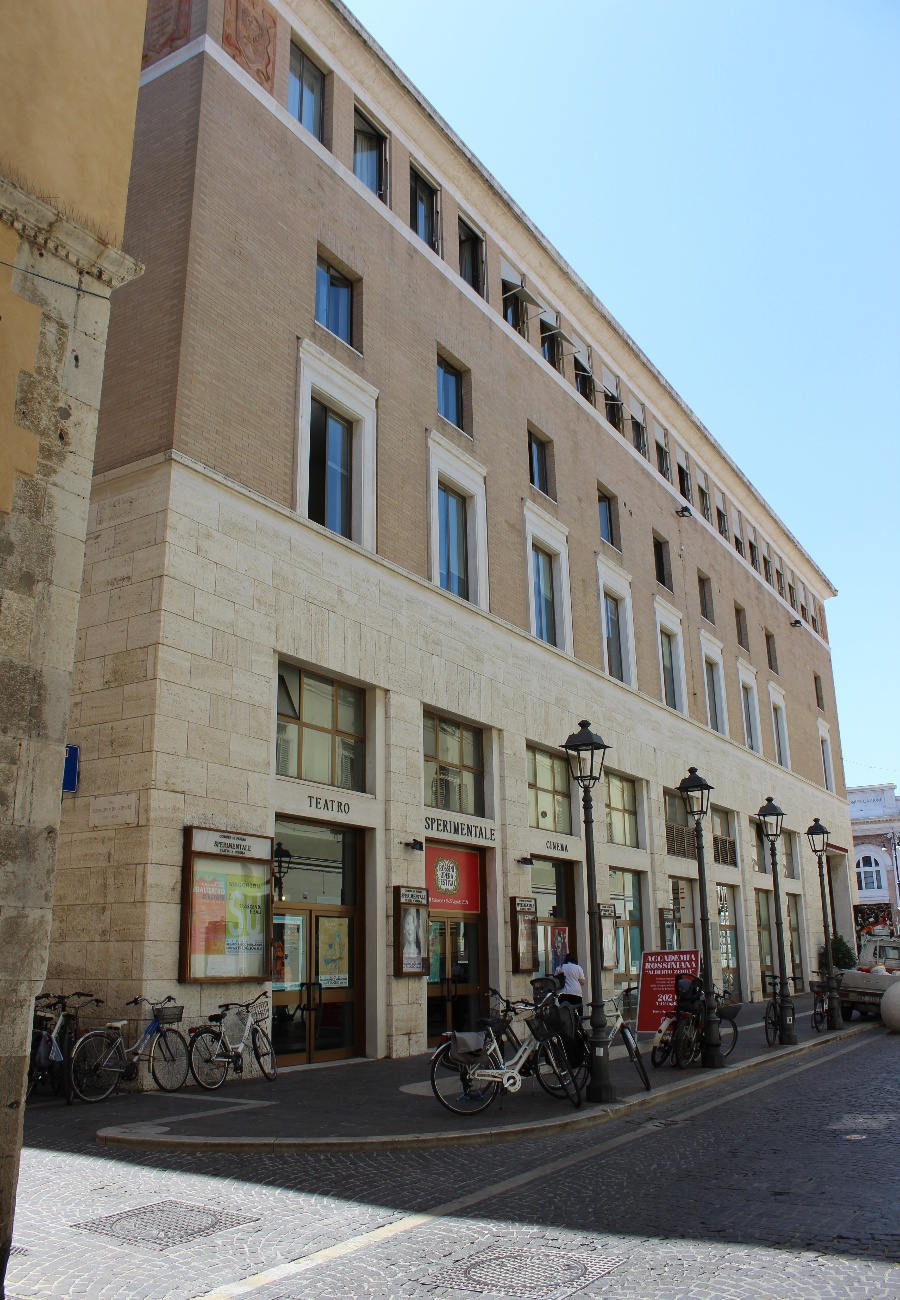Teatro Sperimentale: (133, 1, 844, 1057)
